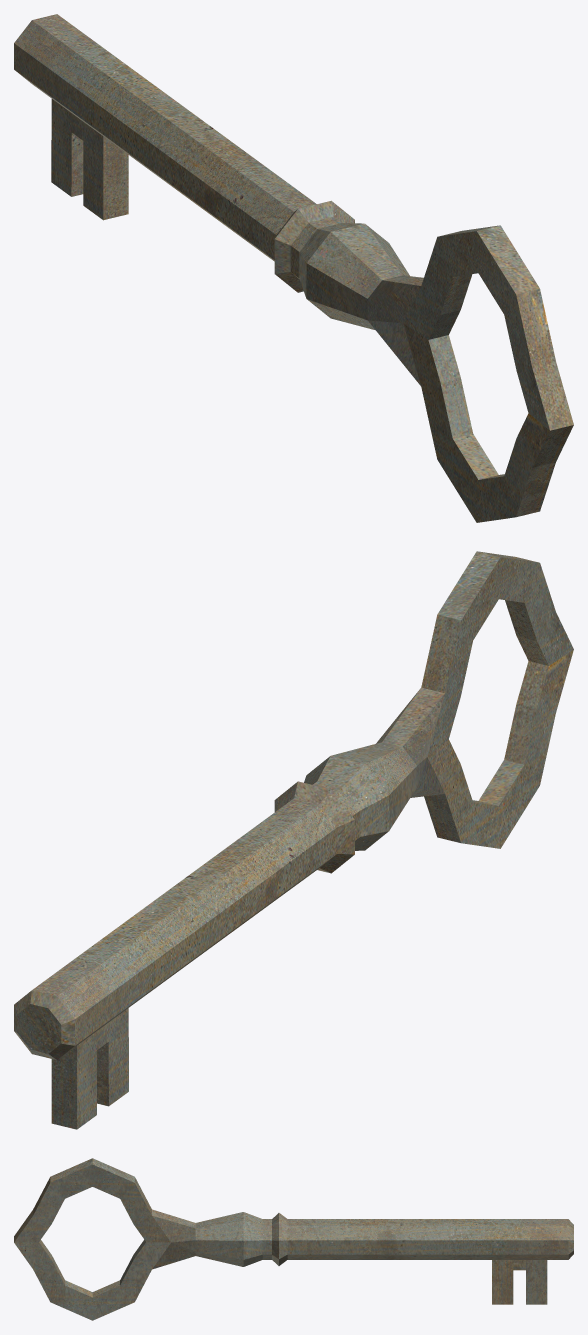
Rendered from llave.obj.
3 views of the same model, one above another, from view 1: azimuth 30°, elevation 25°; view 2: azimuth 150°, elevation 25°; view 3: azimuth 270°, elevation 25° (orthographic). The views are drawn at different scales.
Parts seen in each view (by area): view 1: Cylinder; view 2: Cylinder; view 3: Cylinder.
Boxes of the visible parts, x1,y1,x2,y2 form: Cylinder: (14,14,573,522); Cylinder: (14,551,573,1129); Cylinder: (14,1158,573,1320).
Bounding box in the file's own units: 0.0196 × 0.0659 × 0.2139.
Materials: 1 (1 with a texture image).
